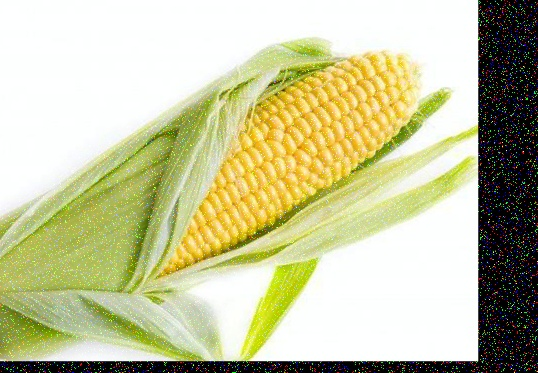corn: (135, 54, 418, 282)
